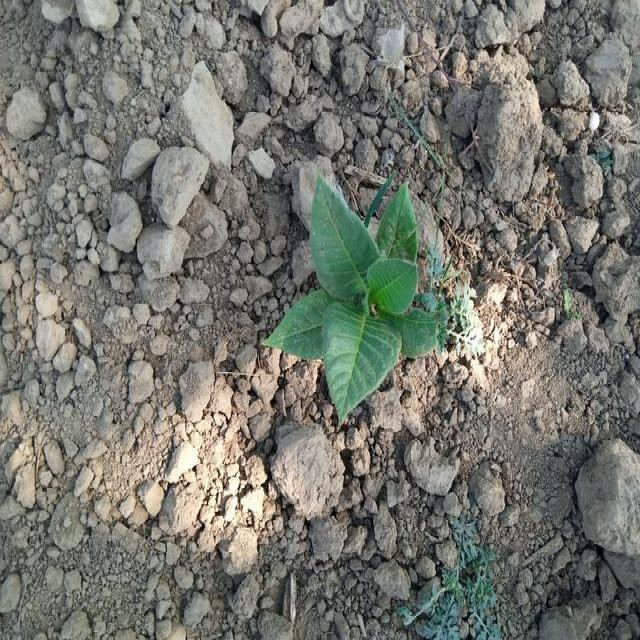crop: (266, 180, 452, 413)
